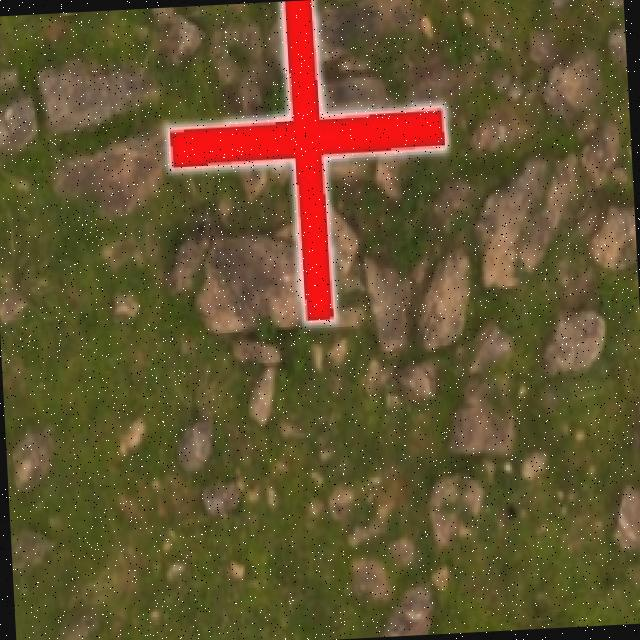x_marker: (162, 0, 452, 327)
